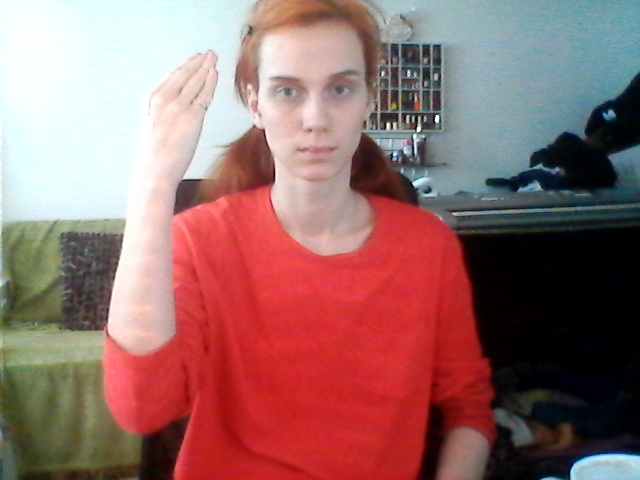domov: (119, 49, 285, 174)
